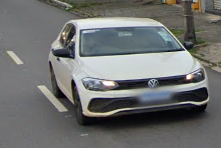car: (47, 16, 212, 120)
